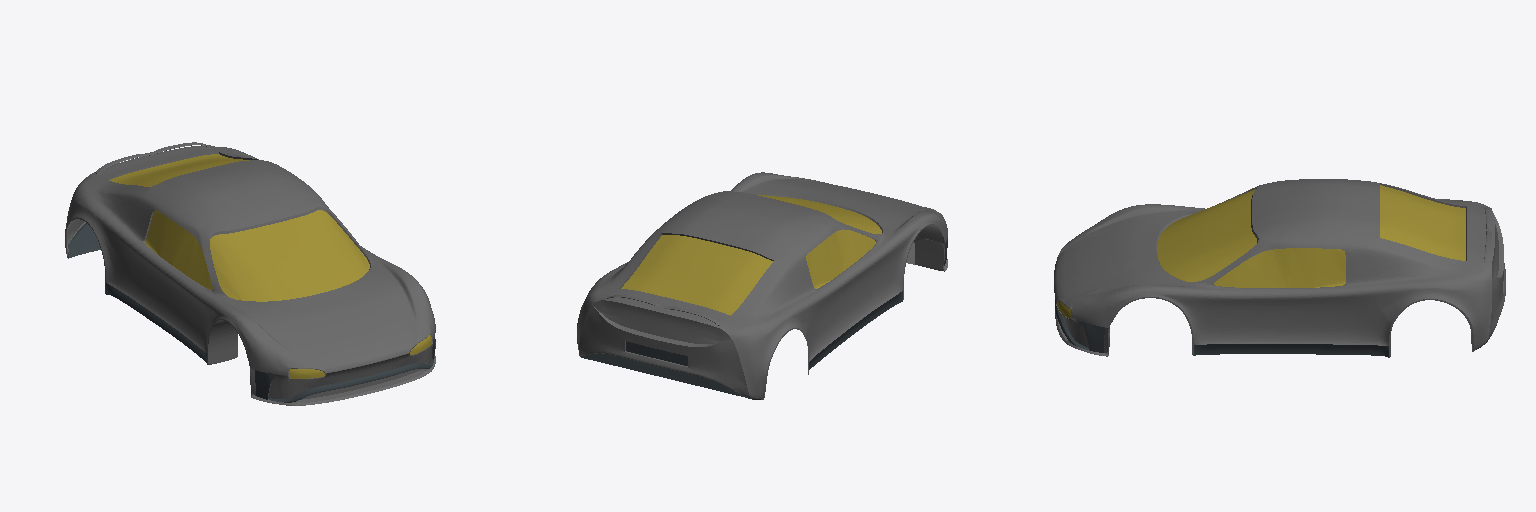
Rendered from car4.obj.
3 renders of one model, left to right at view 1: azimuth 30°, elevation 25°; view 2: azimuth 150°, elevation 25°; view 3: azimuth 270°, elevation 25°, orthographic.
Visible parts, largest first — view 1: car_Circle.001; view 2: car_Circle.001; view 3: car_Circle.001.
Part boxes in pixels (x1,y1,x2,y2): car_Circle.001: (65, 142, 435, 405); car_Circle.001: (577, 172, 947, 399); car_Circle.001: (1054, 179, 1505, 357).
Bounding box in the file's own units: 1.76 × 0.9926 × 3.6.